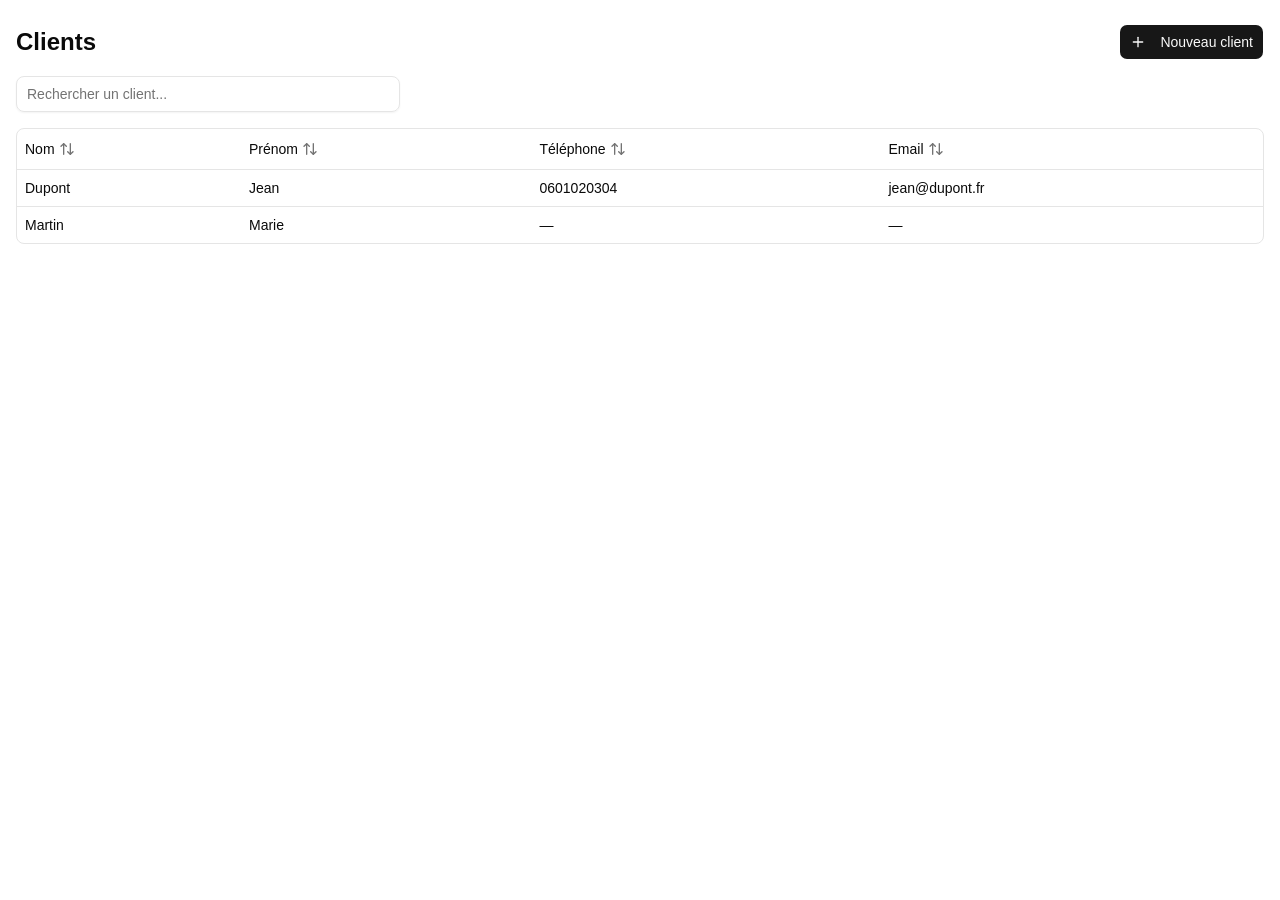
Scenario: ClientsPage › le bouton "Nouveau client" ouvre le dialog
The width and height of the screenshot is (1280, 900).
Click the button "Nouveau client" at (1192, 42), box [1119, 24, 1264, 60]
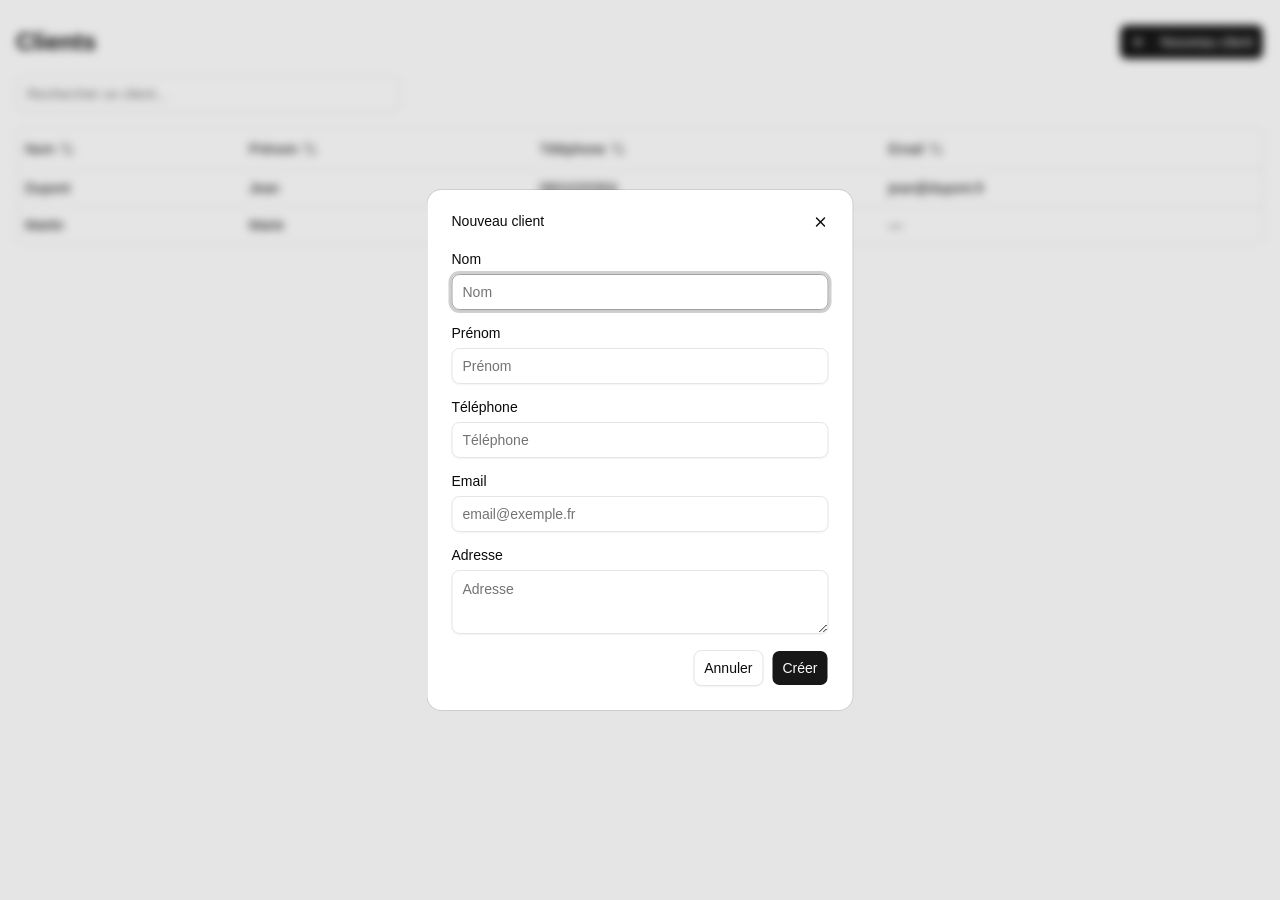
expect the heading "Nouveau client" is shown: met, box [452, 213, 544, 229]
